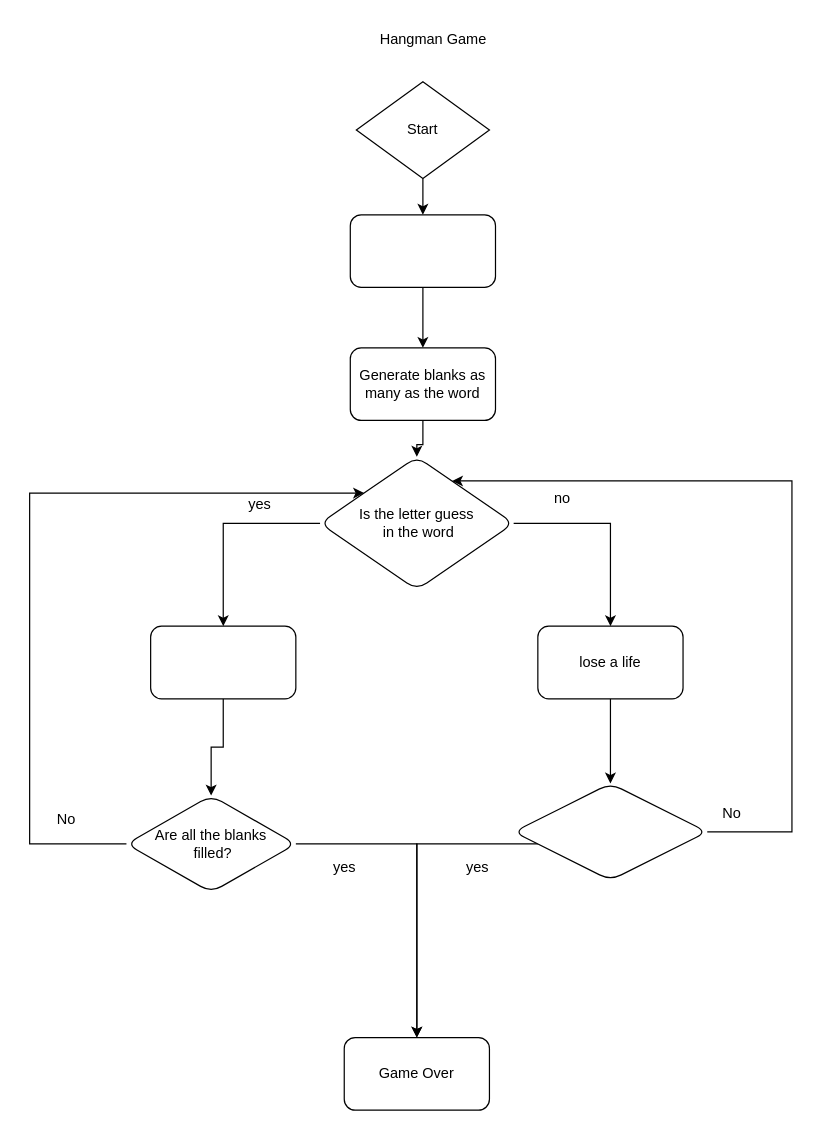
Image size: 823x1131. Some labels were removed from this diagram. Here are the shapes that lost their labels. From the top down, the centre of each, then its label:
the point at 422,250: Generate random word
the point at 222,662: replace blank with letter guessed
the point at 609,831: run out of lives?
